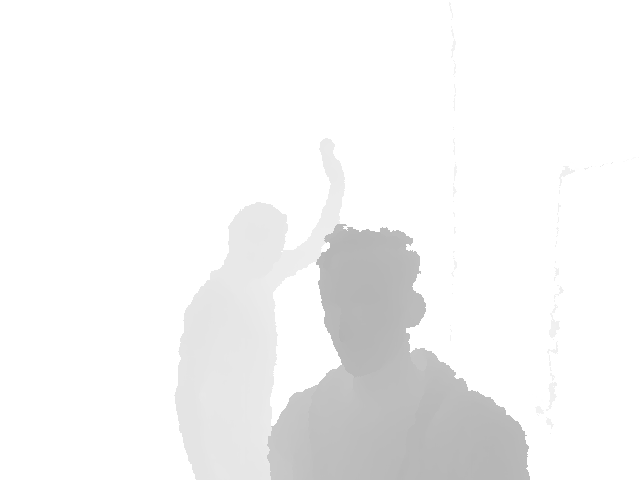hand: (319, 137, 345, 185)
head: (317, 222, 427, 383), (226, 200, 289, 286)
person: (266, 223, 531, 479), (173, 137, 346, 480)
